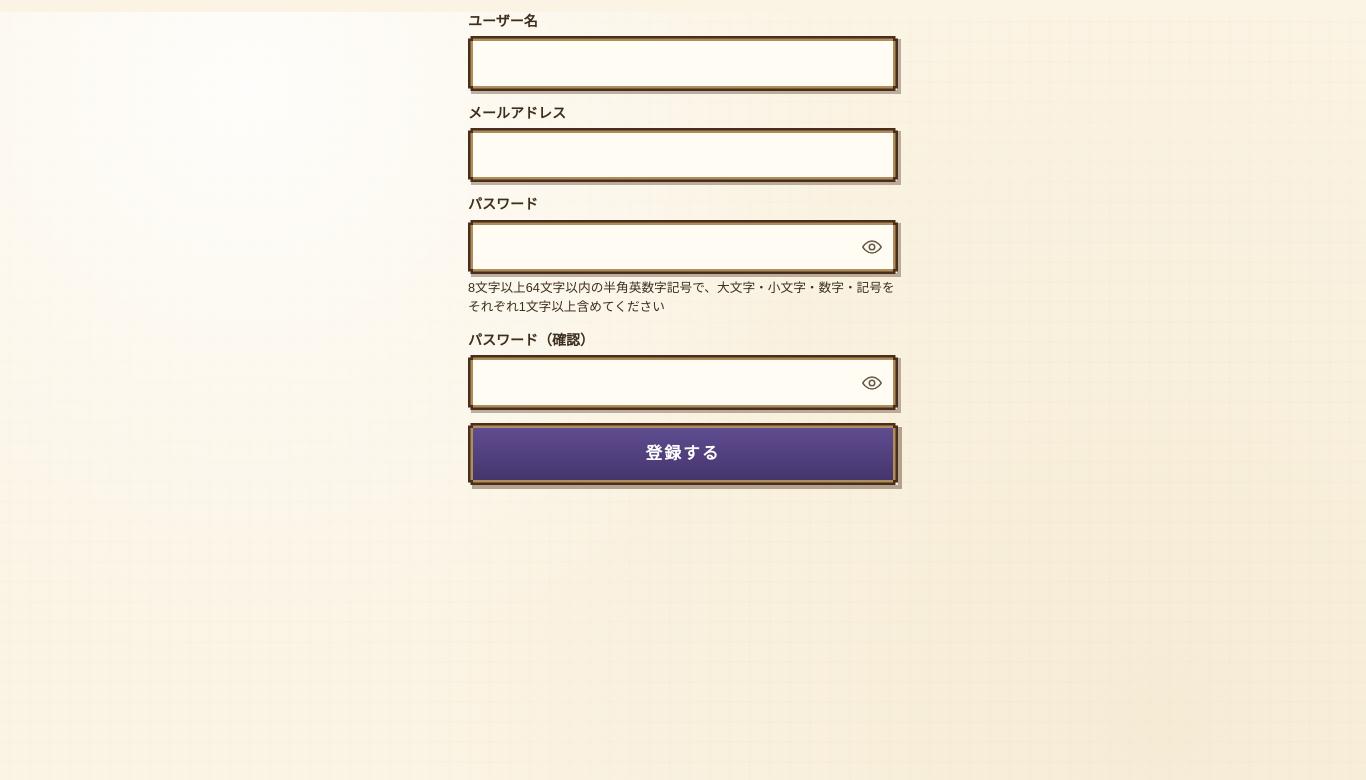
SignUpForm › @が無いメールアドレスは送信しない
In the field with id "sign-up-username": point(683, 64) [468,36,898,91], type "michishiru"
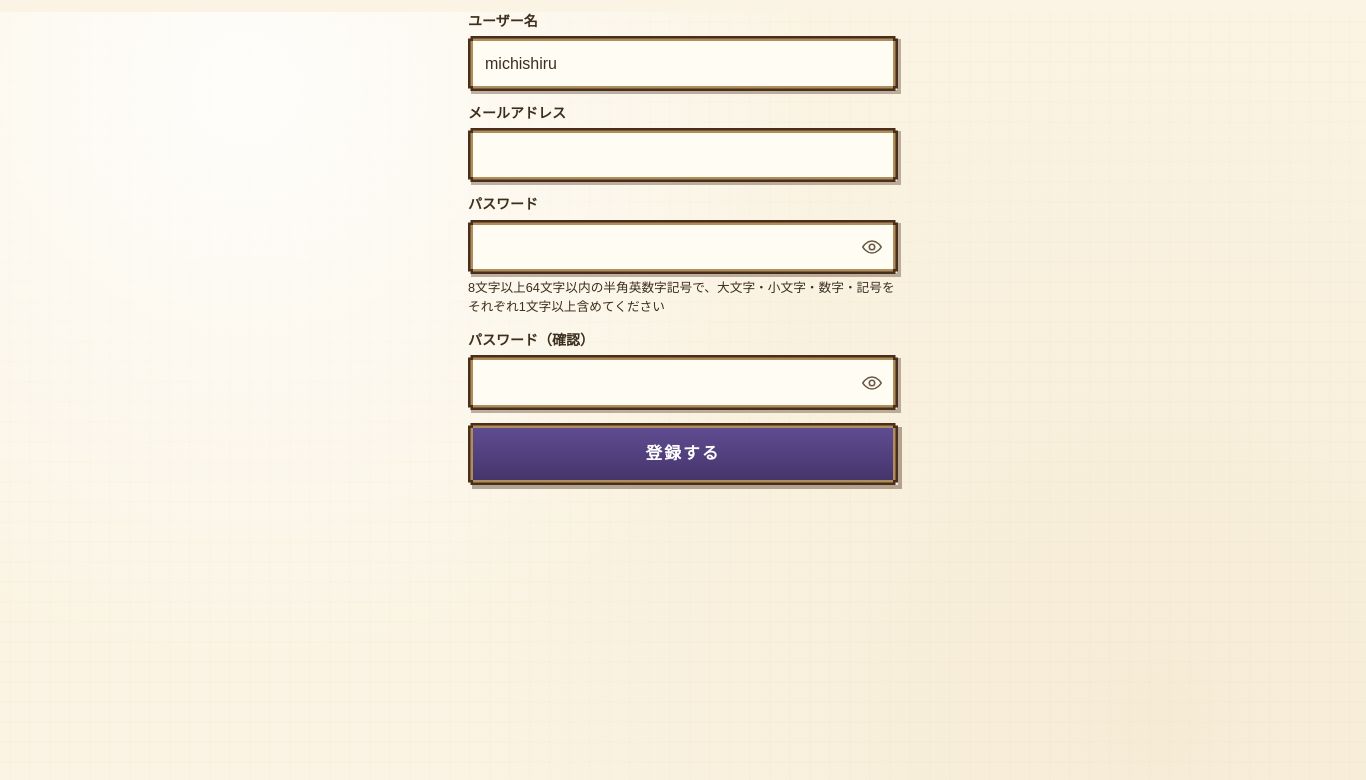
In the field with id "sign-up-email": point(683, 155) [468,128,898,182], type "userexample.com"
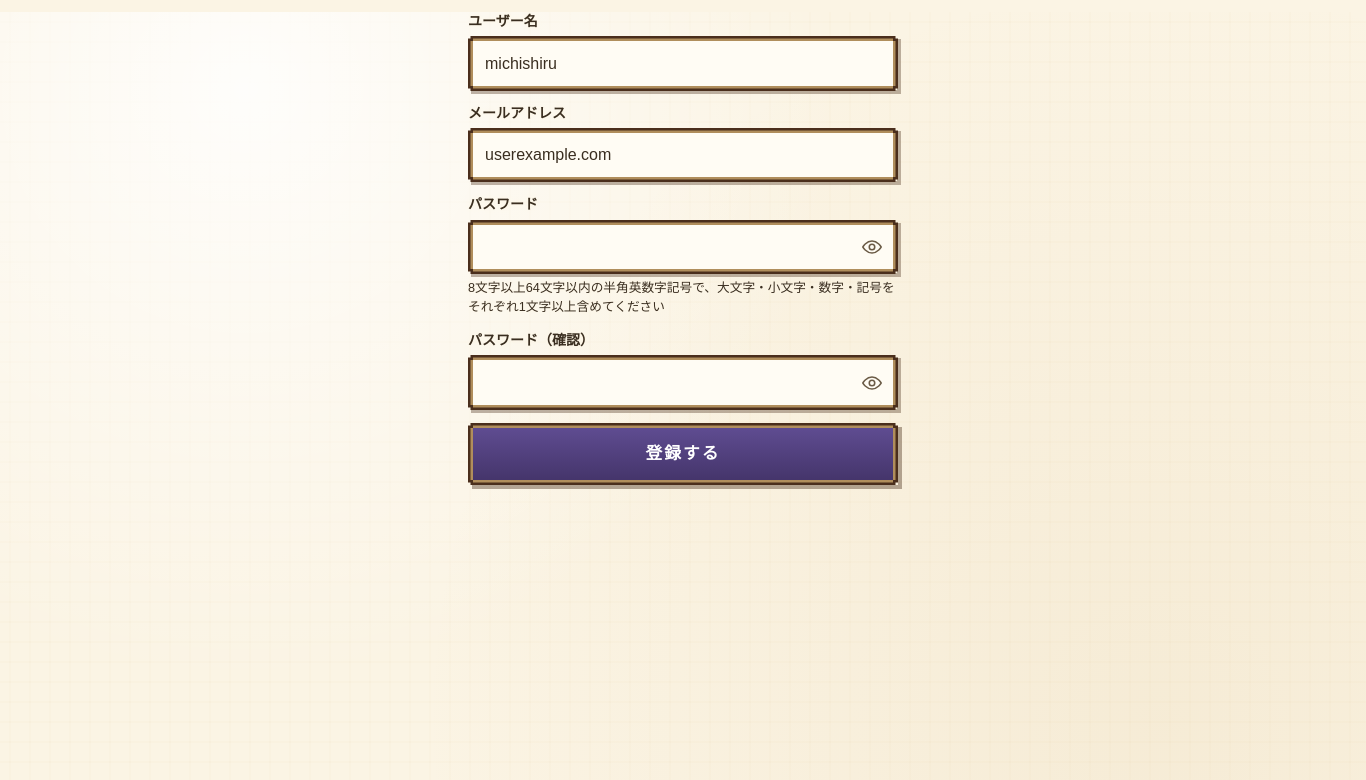
In the password field with id "sign-up-password": point(683, 247) [468,220,898,274], type "Abcdef1!"
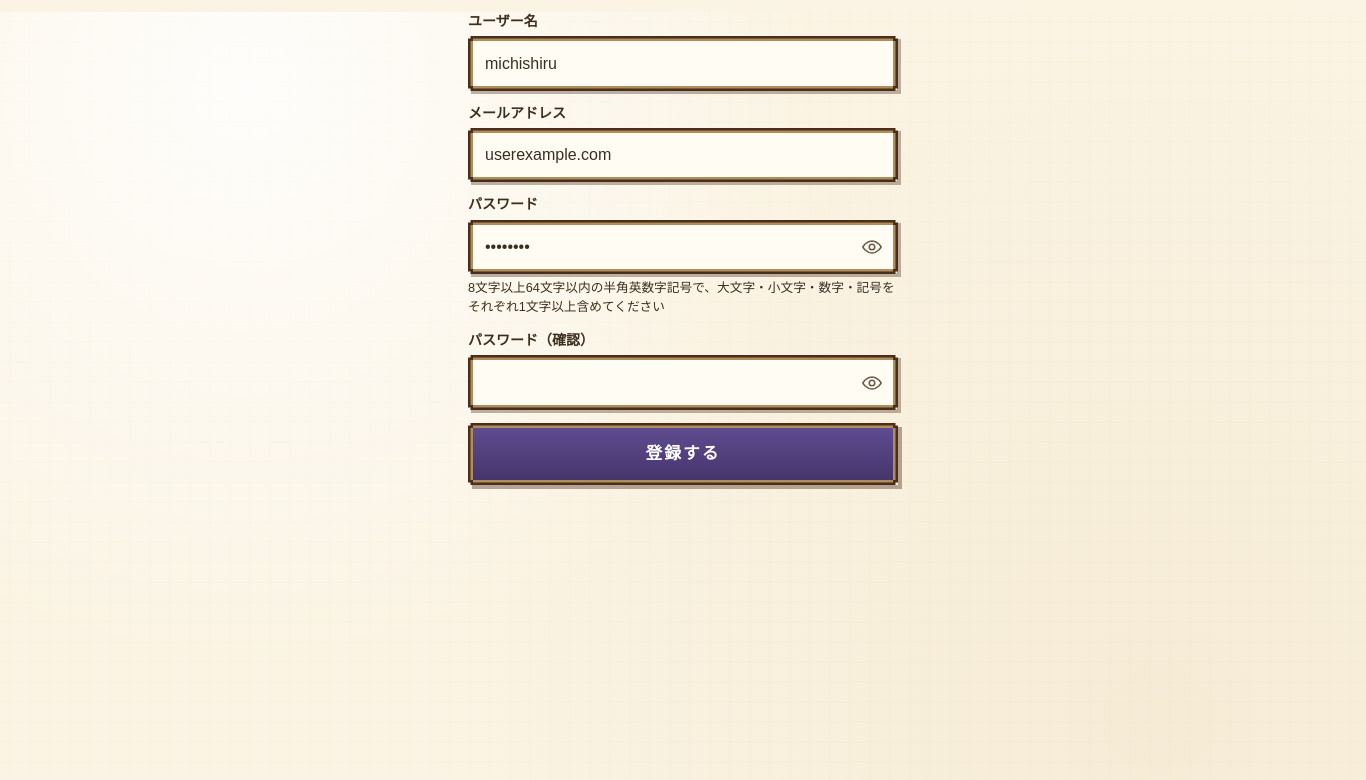
In the password field with id "sign-up-password-confirmation": point(683, 383) [468,355,898,410], type "Abcdef1!"
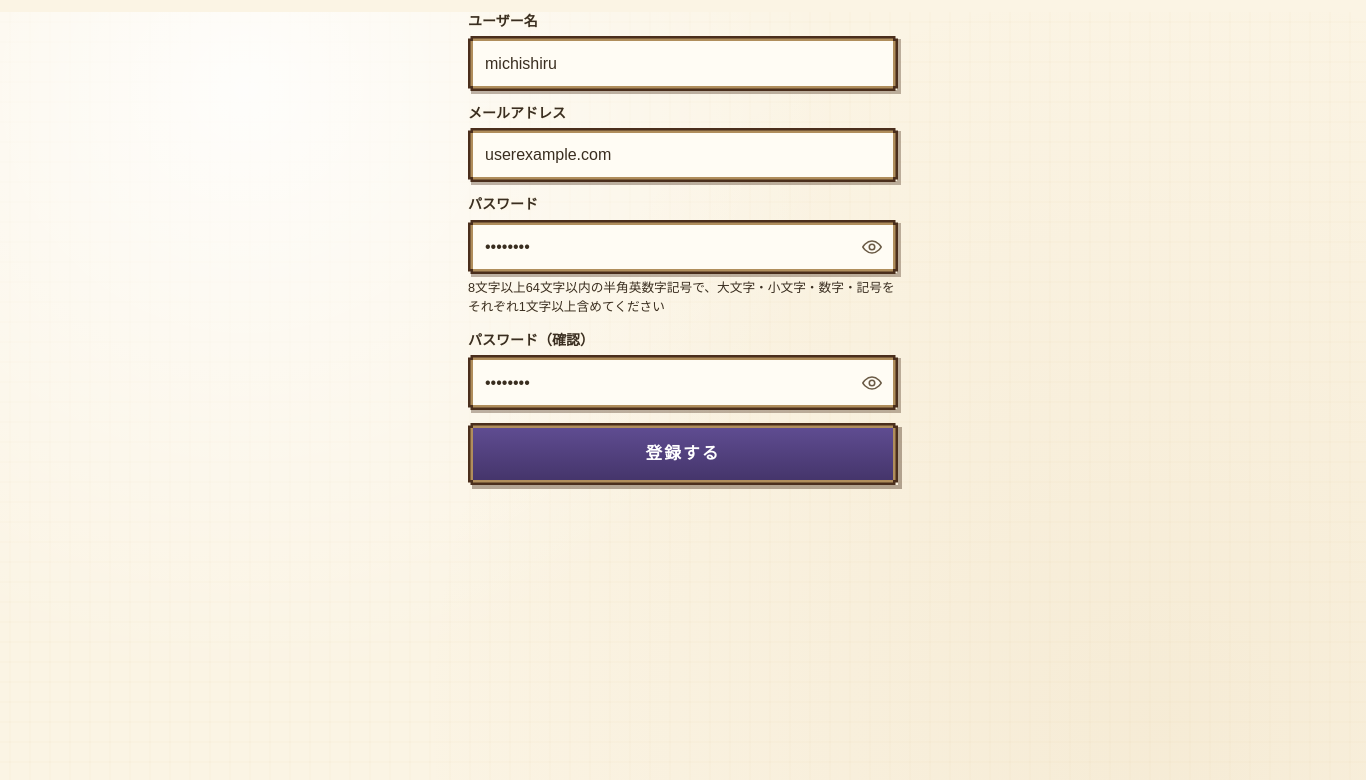
Submit the form, box [468,12,898,485]
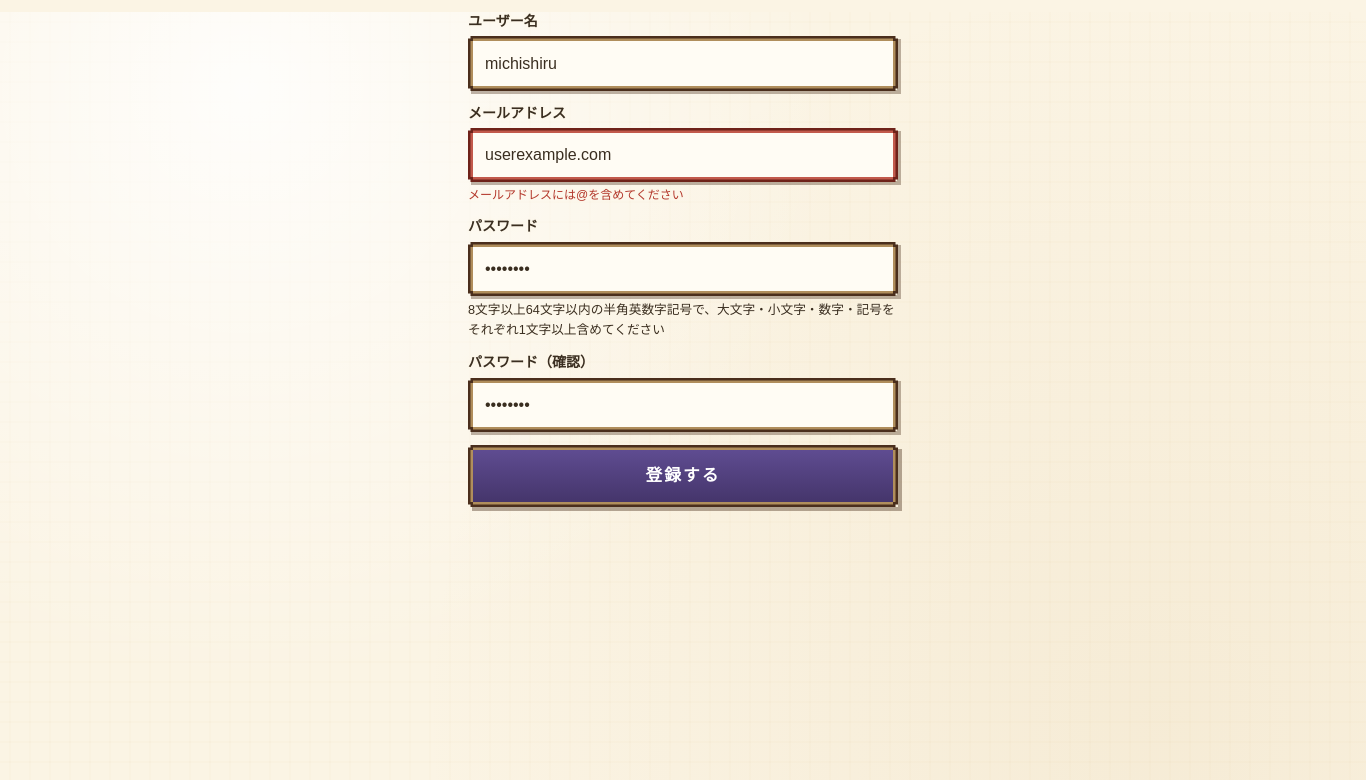
Expected: the text with id "sign-up-email-error" reads "メールアドレスには@を含めてください", [468,188,684,202]
